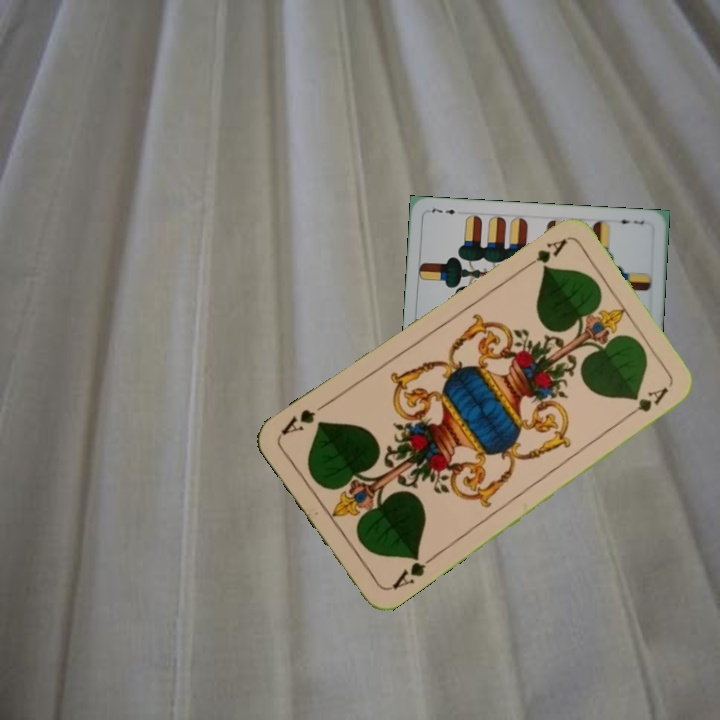E7: (612, 215, 646, 227)
GA: (386, 549, 438, 593), (517, 234, 570, 273)
